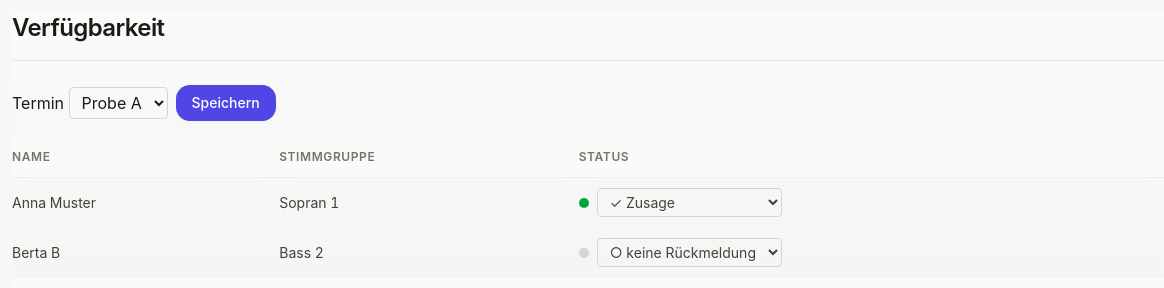
Test case: AvailabilityPage › saves changed statuses as bulk
The image size is (1164, 288).
Check: the text "Anna Muster" is shown, box [12,178,279,228]
Select "✓? Vorbehalt" in the dropdown named "Berta B" at (689, 252), box [597,238,782,267]
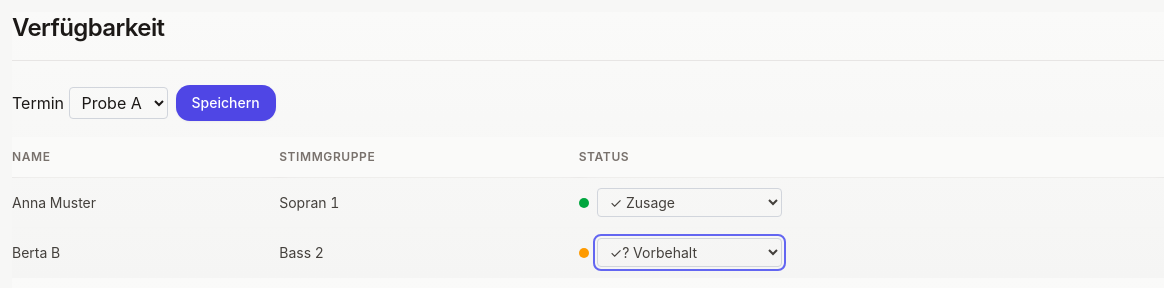
Click the button "Speichern" at (226, 103), box [176,85,276,121]
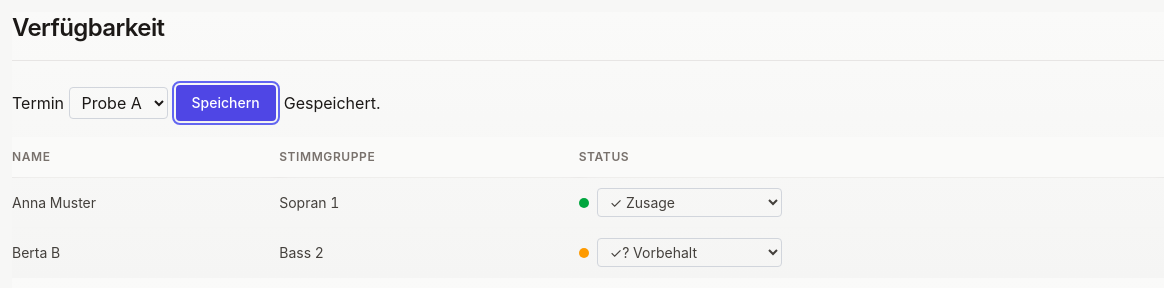
Check: the text "Gespeichert." is shown, box [284,91,380,115]
